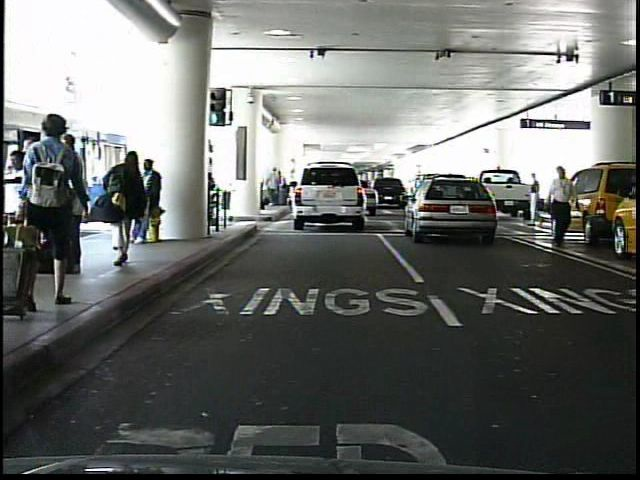person: (31, 109, 88, 322), (106, 140, 155, 272), (136, 157, 168, 246), (548, 162, 579, 252), (529, 171, 548, 227), (555, 170, 565, 210)
